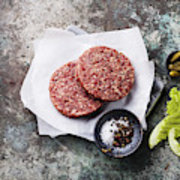ground_beef: (48, 45, 127, 106)
